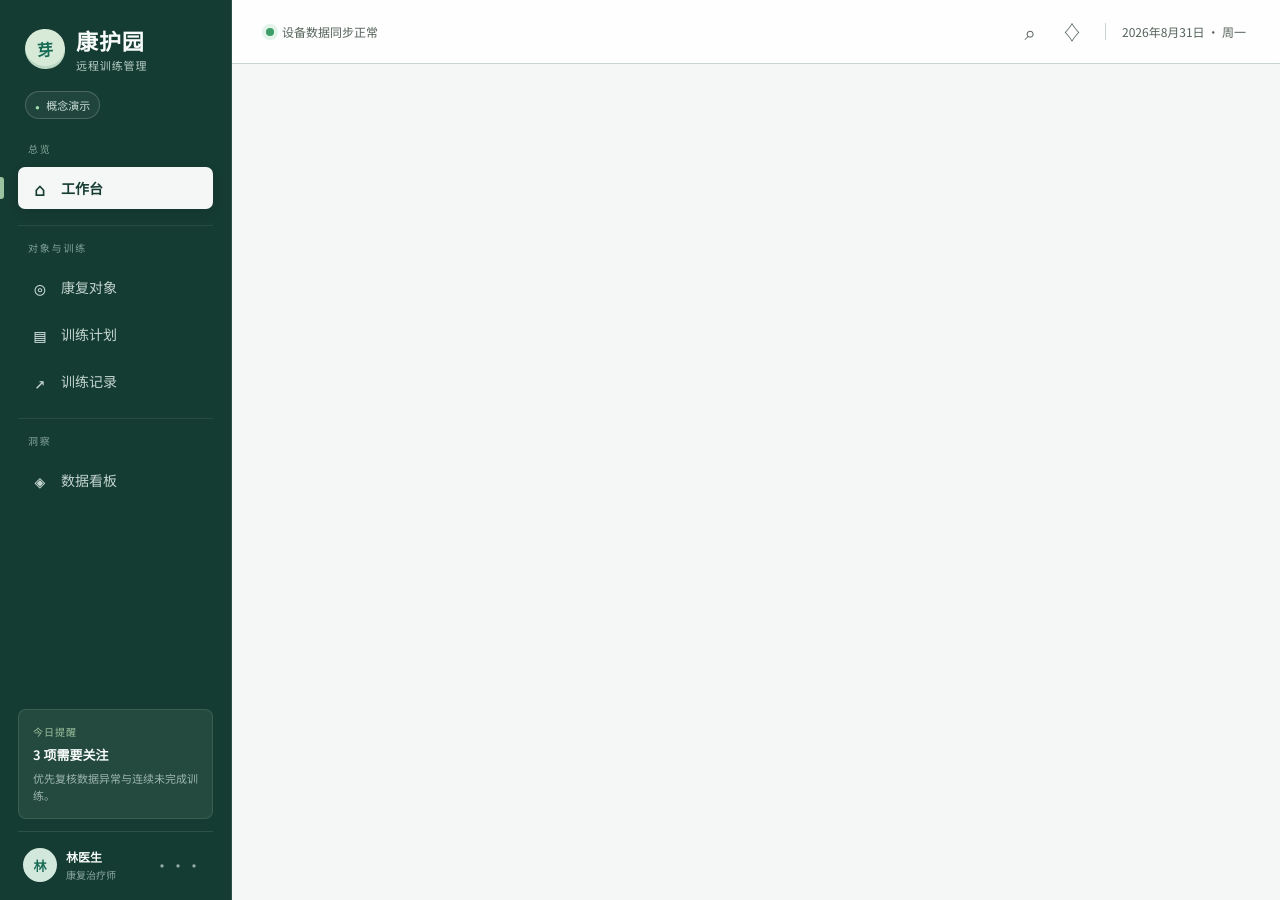
Test: AppShell › opens the profile menu, exposes shortcuts, and closes it with Escape
Click the button named "打开个人菜单". click: [178, 865]
box: [148, 852, 208, 878]
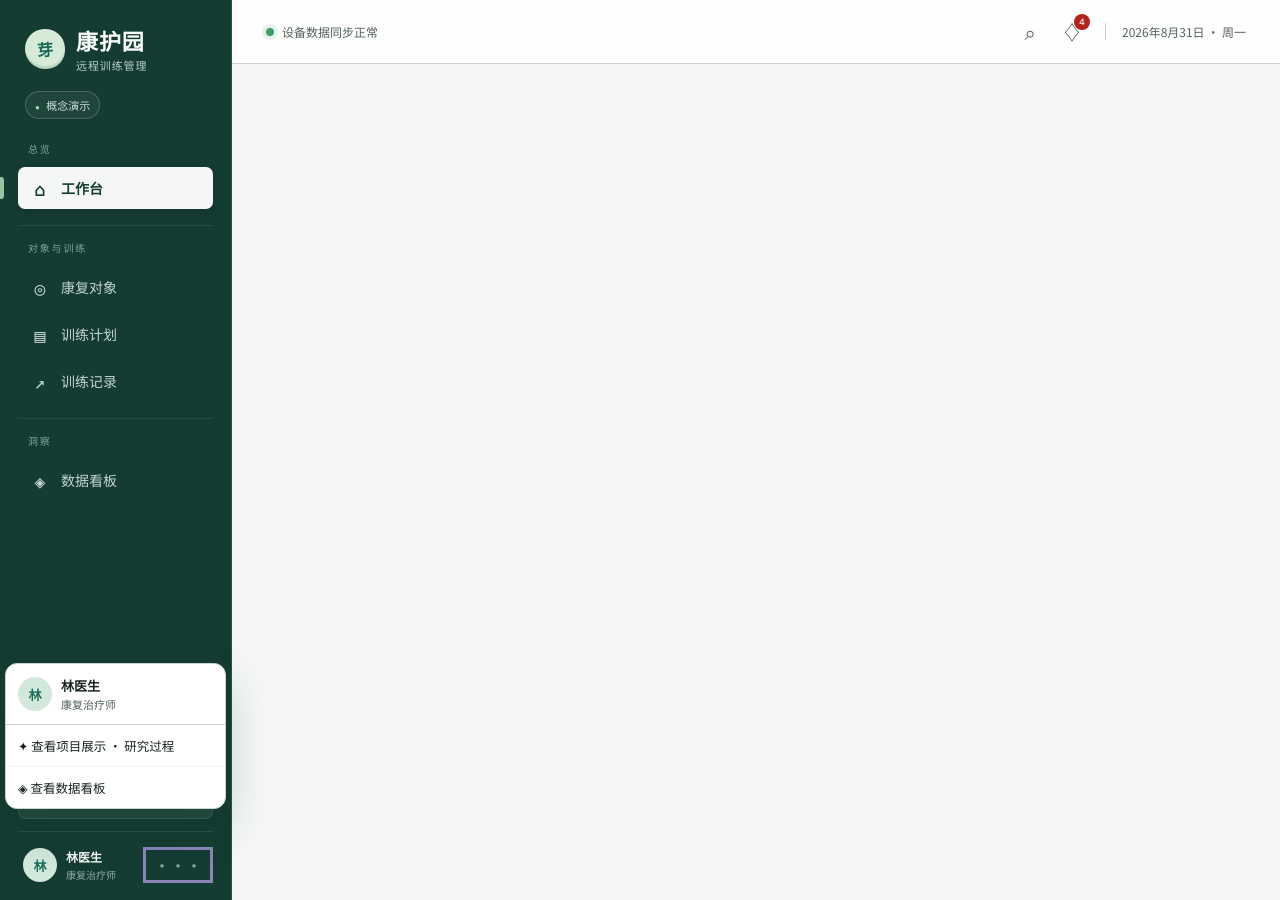
Now the element named "个人菜单" is shown, box [5, 663, 226, 809]
Press Escape
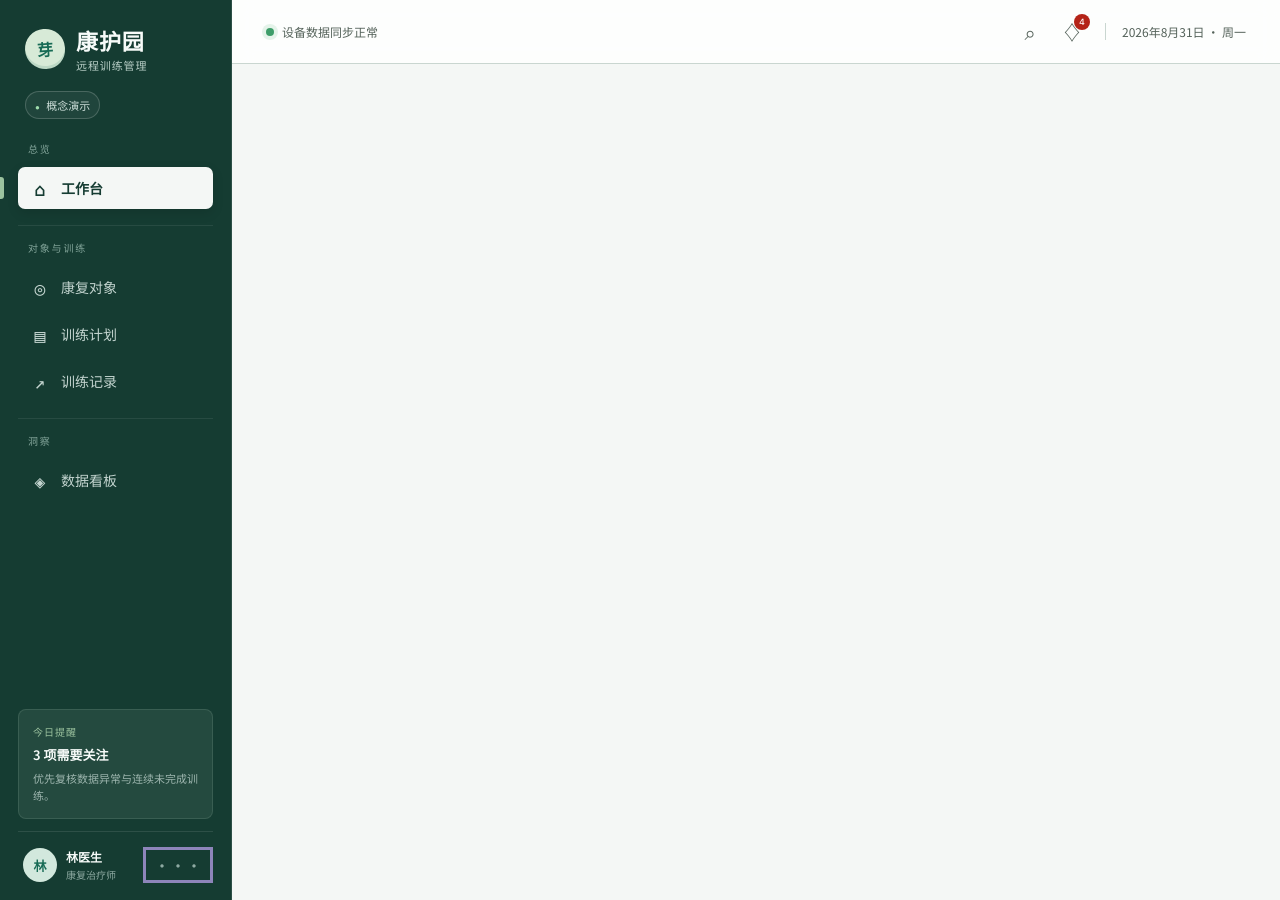
Now the element "个人菜单" is gone
